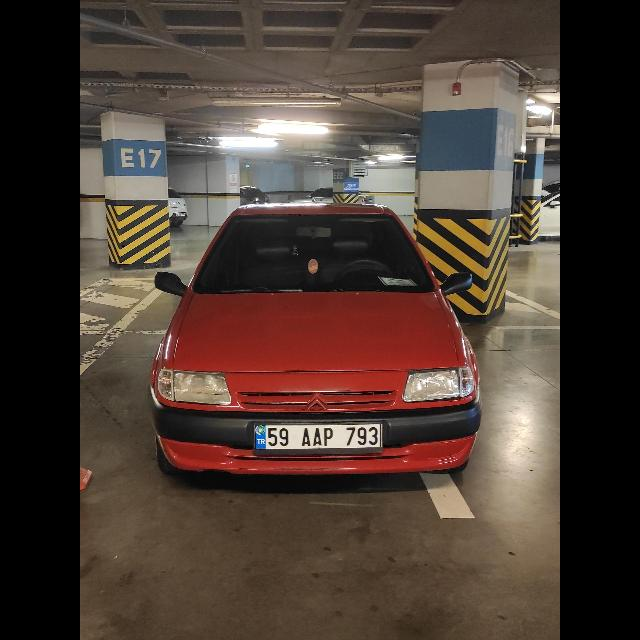Plaka: (258, 424, 382, 448)
